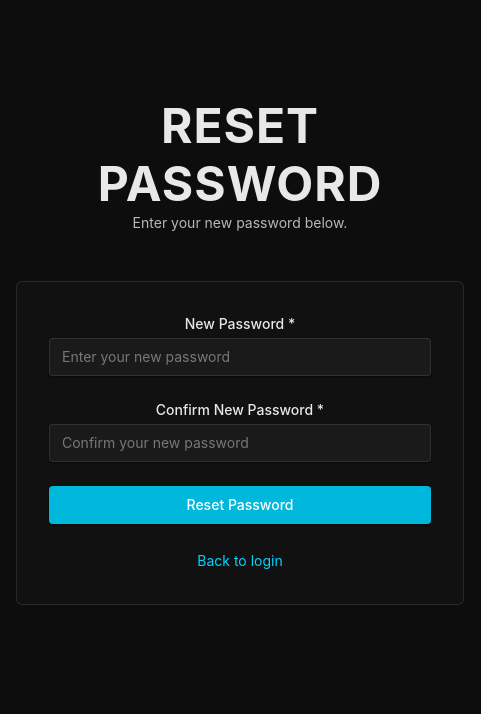
Scenario: ResetPasswordPage › Password Strength Validation › should validate confirm password match
Step 1. Type "StrongPass123!" into the password field labelled "New Password *" → coordinates (240, 357), box [49,338,431,376]
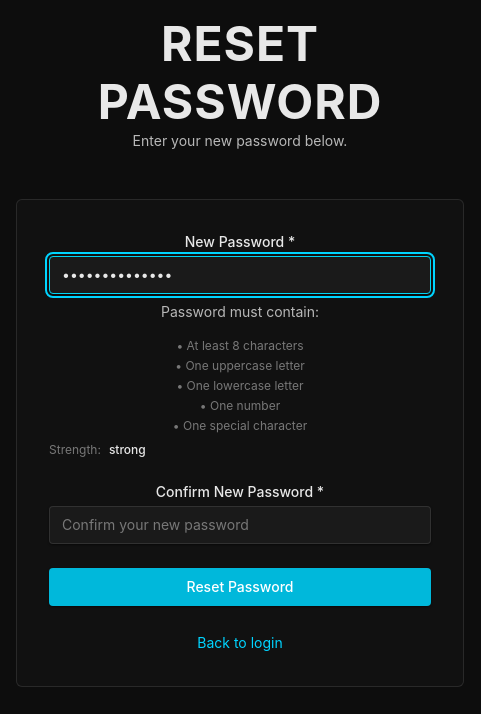
Step 2. Type "DifferentPass123!" into the password field labelled "Confirm New Password *" → coordinates (240, 525), box [49,506,431,544]
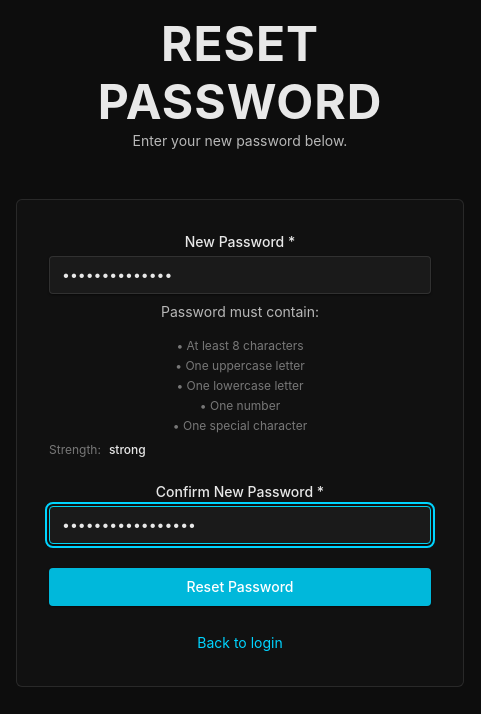
Step 3. Press Tab
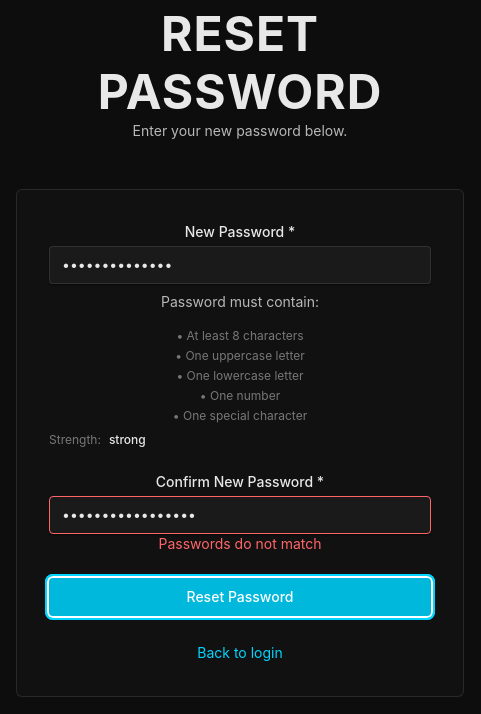
Check: the text "Passwords do not match" is shown, box [158,535,322,552]
